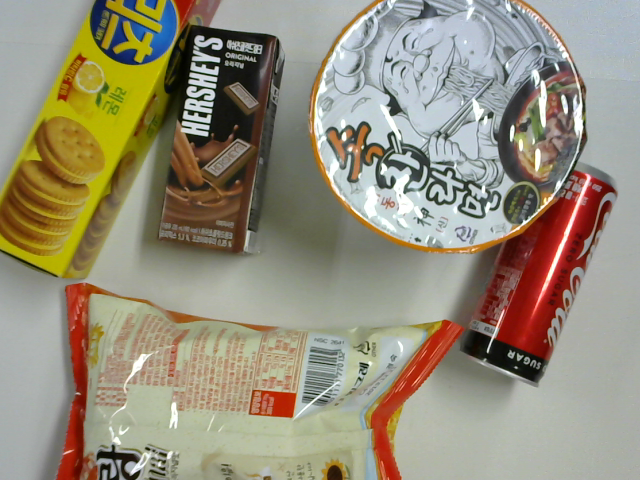Coca_Cola_Zero_Can_250ml: (463, 158, 618, 388)
Crabrang: (57, 283, 464, 480)
Hejangchan: (305, 1, 587, 255)
Hush_Choco_Drink: (153, 25, 286, 255)
Ritz_Remon_96g: (1, 1, 226, 278)
